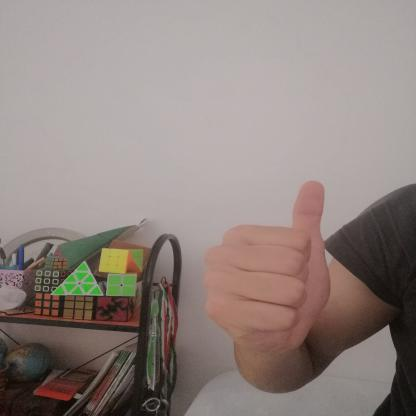ALIF: (186, 167, 355, 364)
